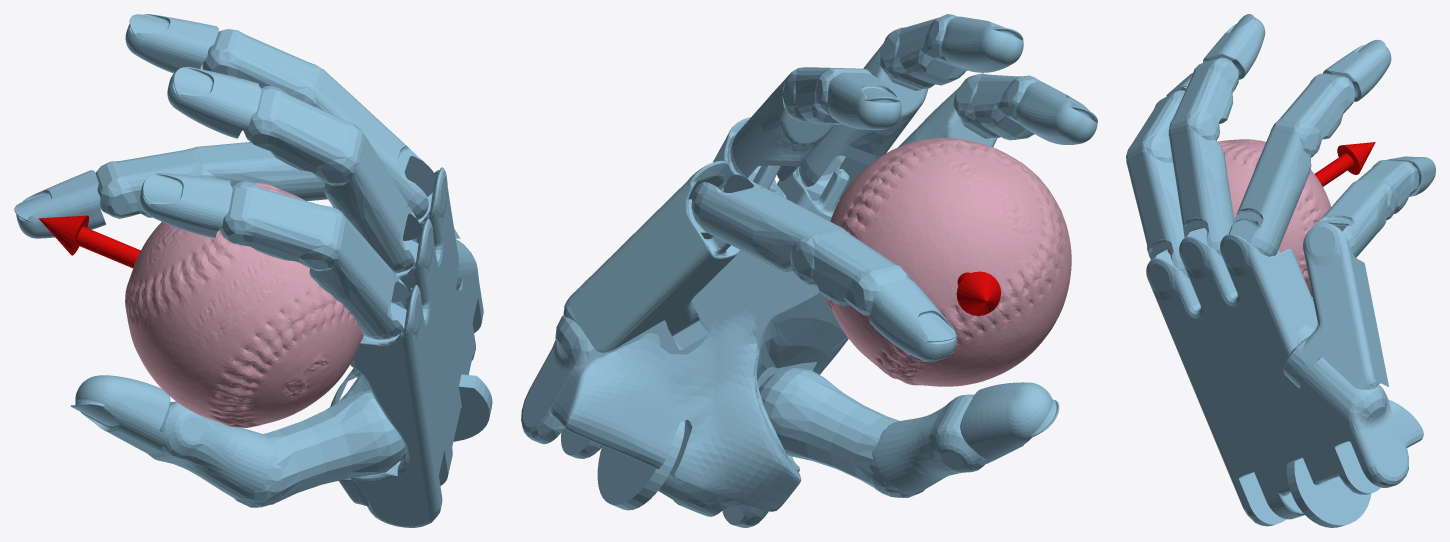
3 renders of one model, left to right at view 1: azimuth 30°, elevation 25°; view 2: azimuth 150°, elevation 25°; view 3: azimuth 270°, elevation 25°, orthographic. The views are drawn at different scales.
Visible parts, largest first — view 1: world, baseball.stl; view 2: world, baseball.stl; view 3: world, baseball.stl.
Boxes of the visible parts, x1,y1,x2,y2 form: world: (14,14,492,527); baseball.stl: (125,183,363,427); world: (521,14,1097,527); baseball.stl: (825,138,1071,386); world: (1126,14,1435,527); baseball.stl: (1147,139,1331,296).
Size of the model in its own units: 0.1606 by 0.1763 by 0.119.
